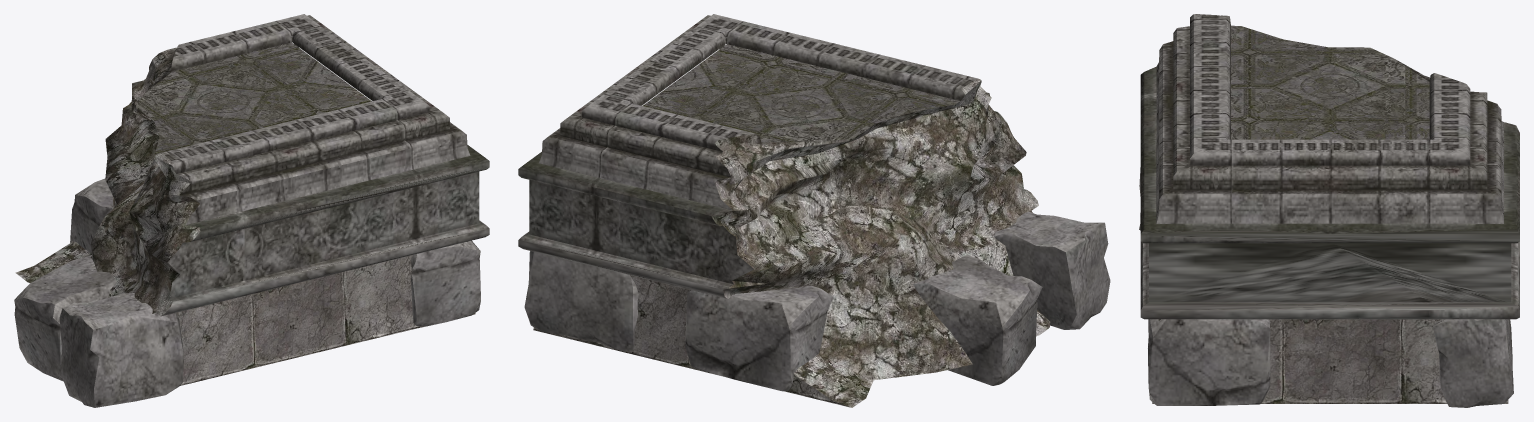
File: eso_ss2_pillar2-transformed.glb
The picture shows the model from 3 angles, left to right: view 1: azimuth 30°, elevation 25°; view 2: azimuth 150°, elevation 25°; view 3: azimuth 270°, elevation 25°; orthographic projection. The views are drawn at different scales.
Parts seen in each view (by area): view 1: default; view 2: default; view 3: default.
Part boxes in pixels (bbox=[...]): default: bbox=[14, 14, 489, 407]; default: bbox=[518, 14, 1110, 407]; default: bbox=[1139, 14, 1519, 407].
Bounding box in the file's own units: 7.81 × 4.25 × 5.76.
5 materials, 5 textured.
